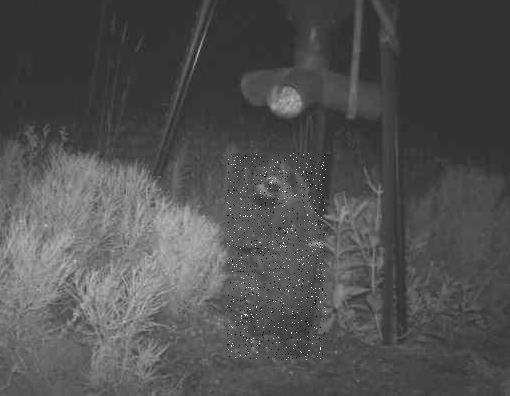Raccoon: (228, 154, 327, 361)
